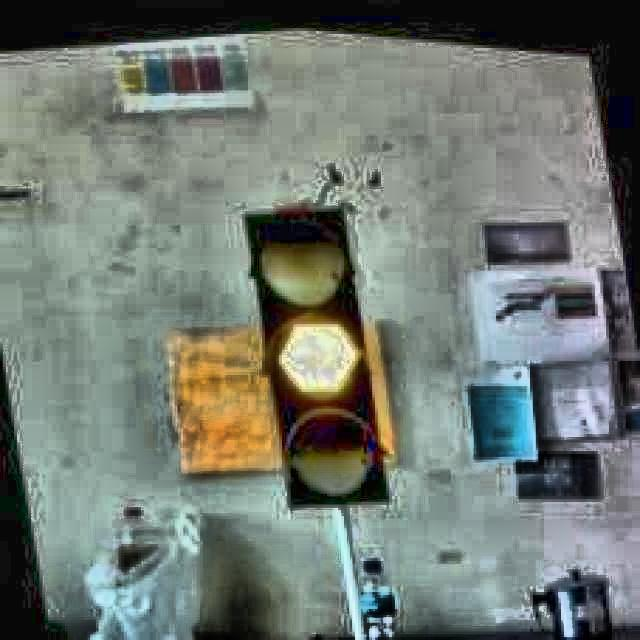yellow: (246, 202, 394, 510)
